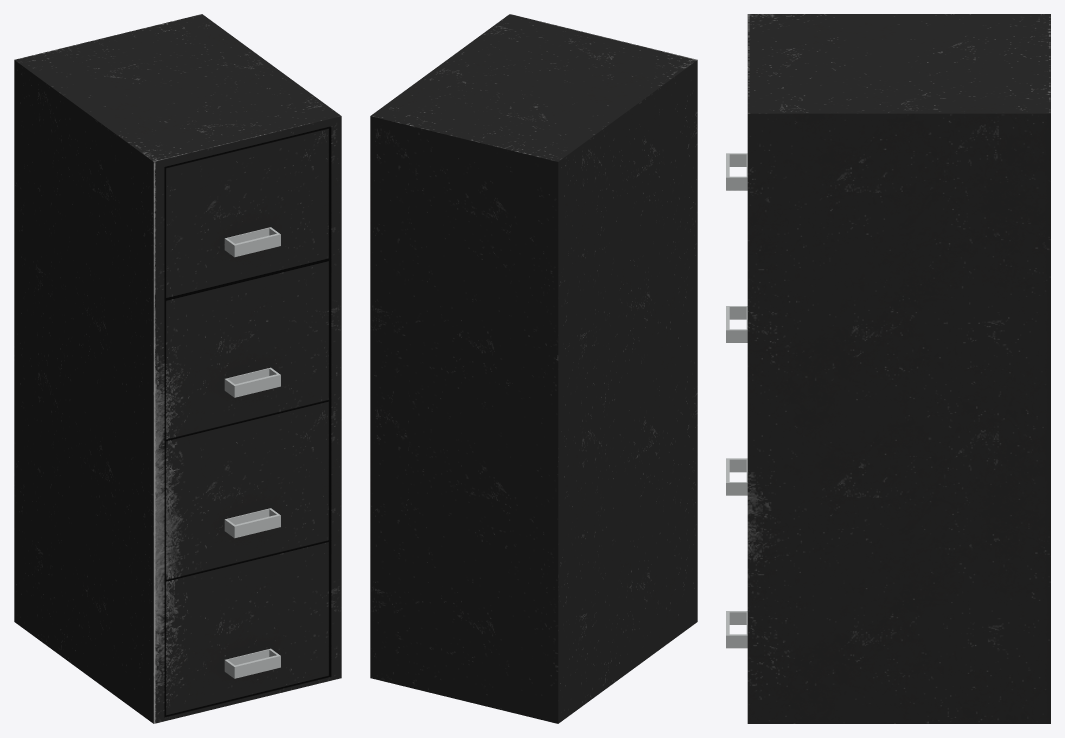
Rendered from filing_cabinet.fbx.
3 renders of one model, left to right at view 1: azimuth 30°, elevation 25°; view 2: azimuth 150°, elevation 25°; view 3: azimuth 270°, elevation 25°, orthographic. The views are drawn at different scales.
Parts seen in each view (by area): view 1: filing_cabinet; view 2: filing_cabinet; view 3: filing_cabinet.
Boxes of the visible parts, x1=… form: filing_cabinet: x1=14, y1=14, x2=341, y2=723; filing_cabinet: x1=370, y1=14, x2=697, y2=723; filing_cabinet: x1=726, y1=14, x2=1050, y2=723.
Size of the model in its own units: 70 by 200 by 96.42.
Materials: 1 (1 with a texture image).
